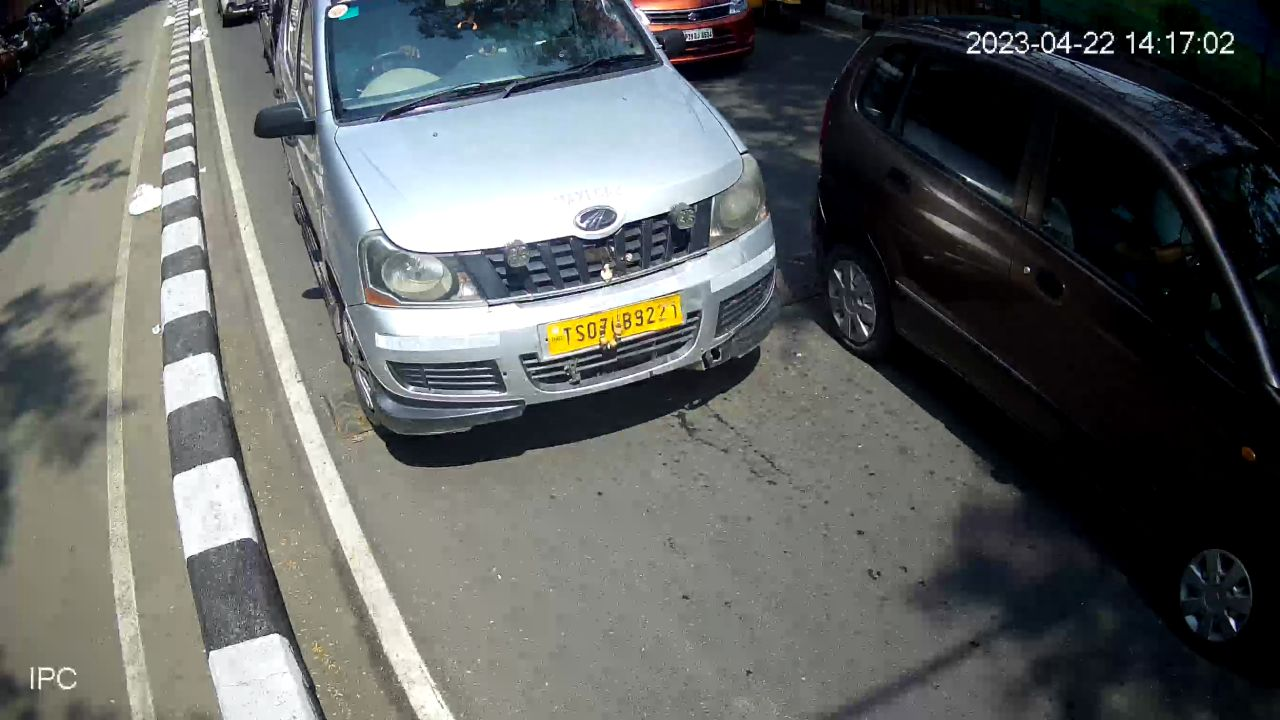license_plate: (532, 288, 691, 373), (674, 22, 721, 47)
